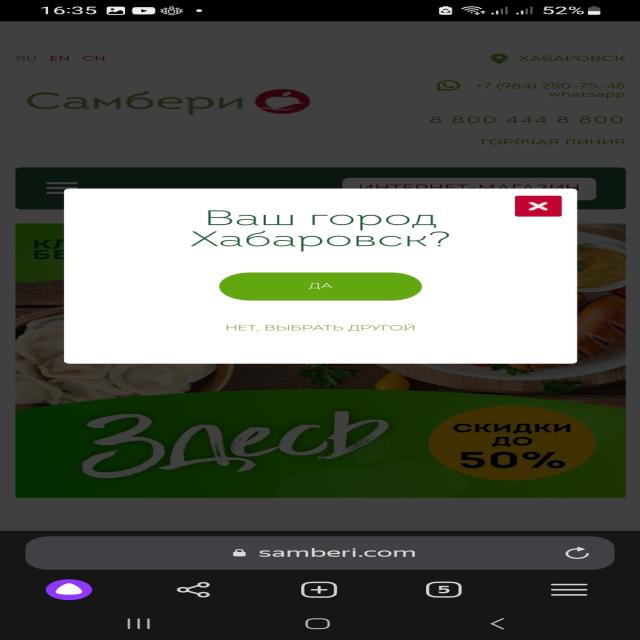button: (222, 271, 424, 301), (217, 313, 435, 339), (514, 196, 564, 216)
site: (63, 188, 580, 364)
